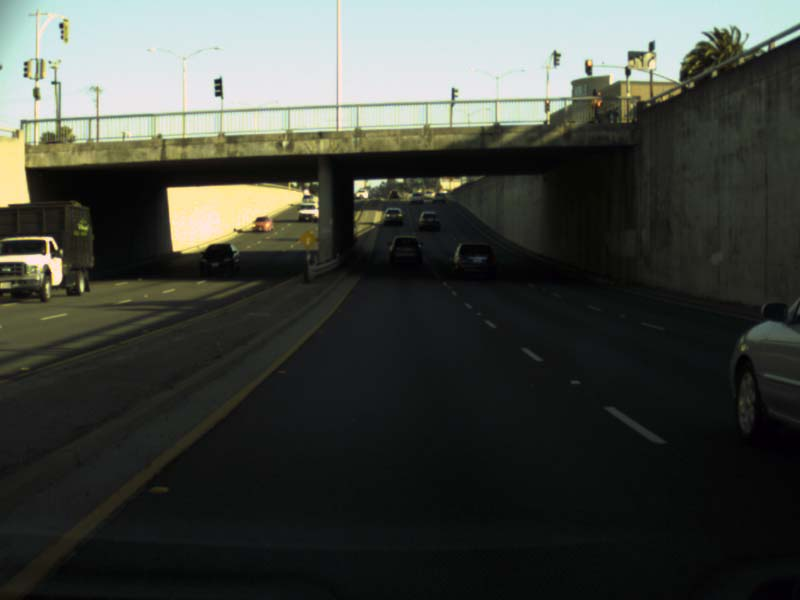Red: (584, 57, 592, 73)
